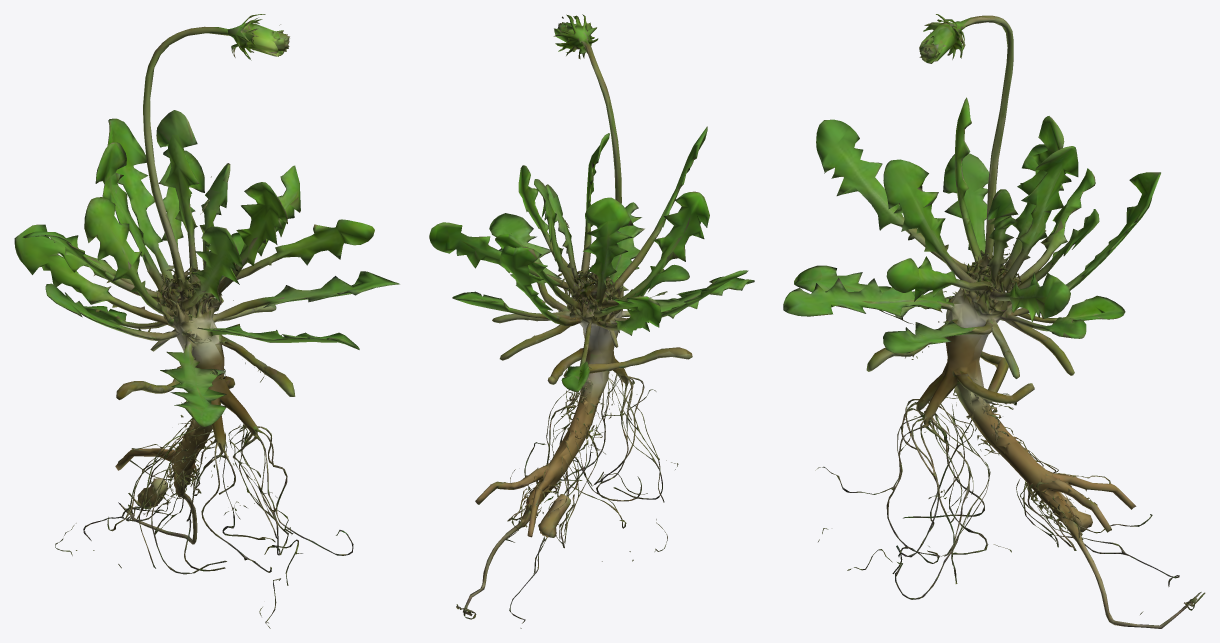
The model's file is Meshy_AI_Dandelion_0210154014_texture_decimated.obj.
3 renders of one model, left to right at view 1: azimuth 30°, elevation 25°; view 2: azimuth 150°, elevation 25°; view 3: azimuth 270°, elevation 25°, orthographic. The views are drawn at different scales.
Parts seen in each view (by area): view 1: Meshy_AI_Dandelion_0210154014_texture; view 2: Meshy_AI_Dandelion_0210154014_texture; view 3: Meshy_AI_Dandelion_0210154014_texture.
Part boxes in pixels (bbox=[...]): Meshy_AI_Dandelion_0210154014_texture: bbox=[14, 14, 399, 628]; Meshy_AI_Dandelion_0210154014_texture: bbox=[429, 14, 754, 628]; Meshy_AI_Dandelion_0210154014_texture: bbox=[783, 14, 1205, 628].
Bounding box in the file's own units: 1.09 × 2 × 1.24.
